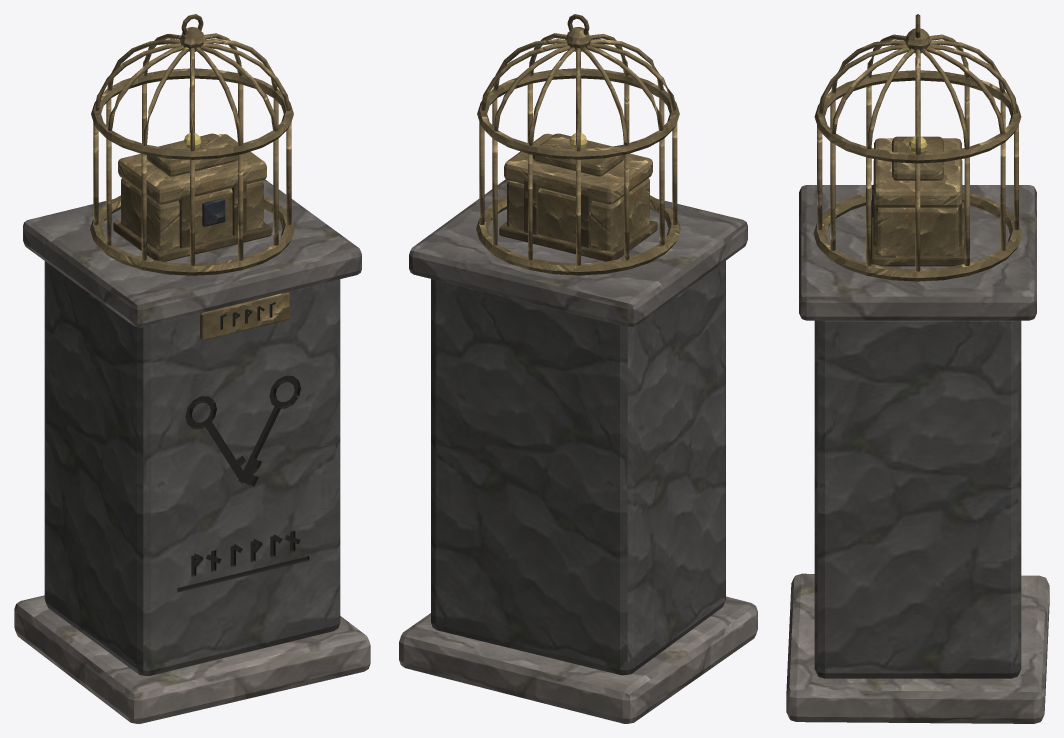
File: bv_lockbox_pedestal.glb
3 views of the same model, side by side, from view 1: azimuth 30°, elevation 25°; view 2: azimuth 150°, elevation 25°; view 3: azimuth 270°, elevation 25° (orthographic). The views are drawn at different scales.
Visible parts, largest first — view 1: model; view 2: model; view 3: model.
Part boxes in pixels (x1=…): model: x1=14, y1=14, x2=370, y2=723; model: x1=399, y1=14, x2=757, y2=723; model: x1=786, y1=14, x2=1049, y2=723.
Bounding box in the file's own units: 0.5524 × 1.39 × 0.5089.
9 materials, 7 textured.
